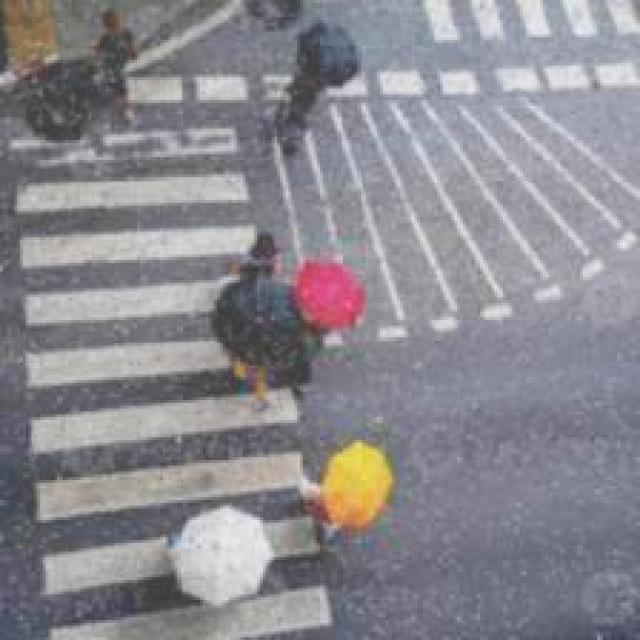zebra: (0, 90, 371, 638)
